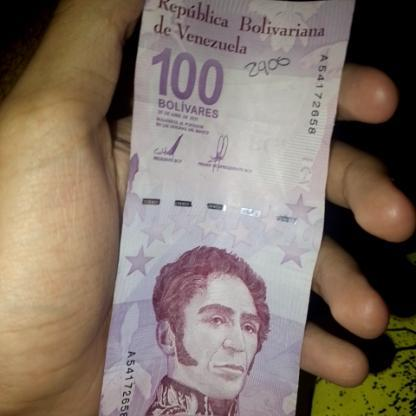one_hundred-front-vef: (100, 13, 346, 416)
